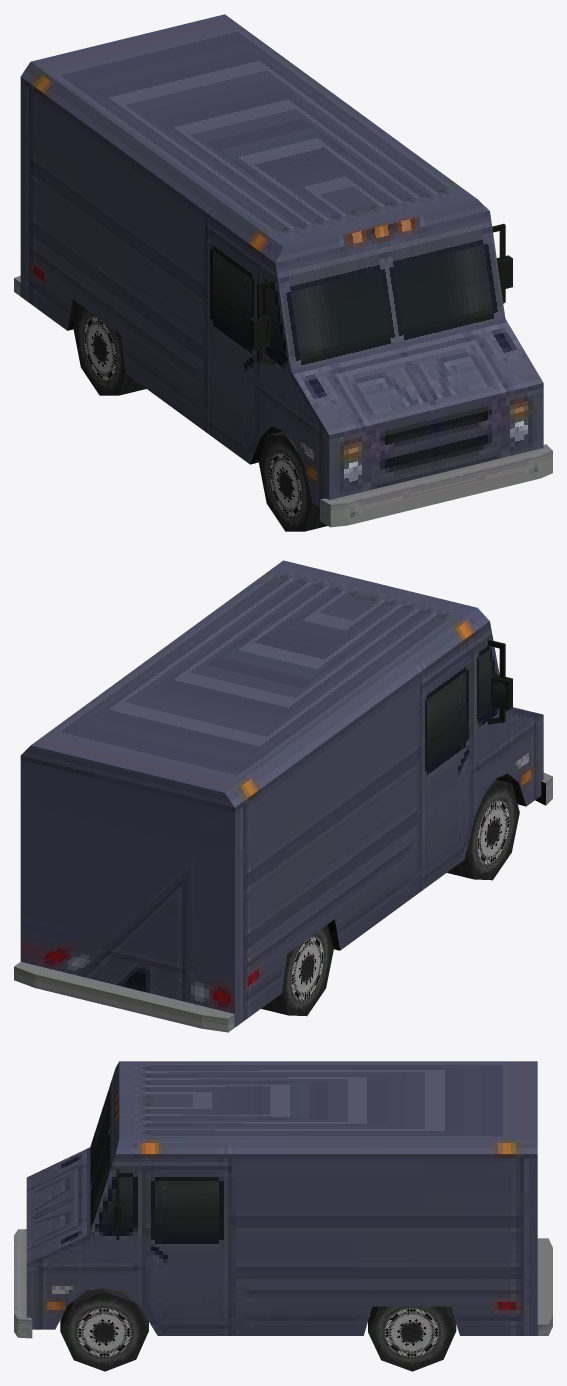
Rendered from car8-purple.glb.
3 views of the same model, one above another, from view 1: azimuth 30°, elevation 25°; view 2: azimuth 150°, elevation 25°; view 3: azimuth 270°, elevation 25° (orthographic). The views are drawn at different scales.
Parts seen in each view (by area): view 1: Car8; view 2: Car8; view 3: Car8.
Boxes of the visible parts, bbox=[...] form: Car8: bbox=[14, 14, 552, 531]; Car8: bbox=[14, 560, 552, 1032]; Car8: bbox=[14, 1061, 552, 1371].
Bounding box in the file's own units: 3.17 × 3.23 × 6.89.
1 material, 1 textured.
